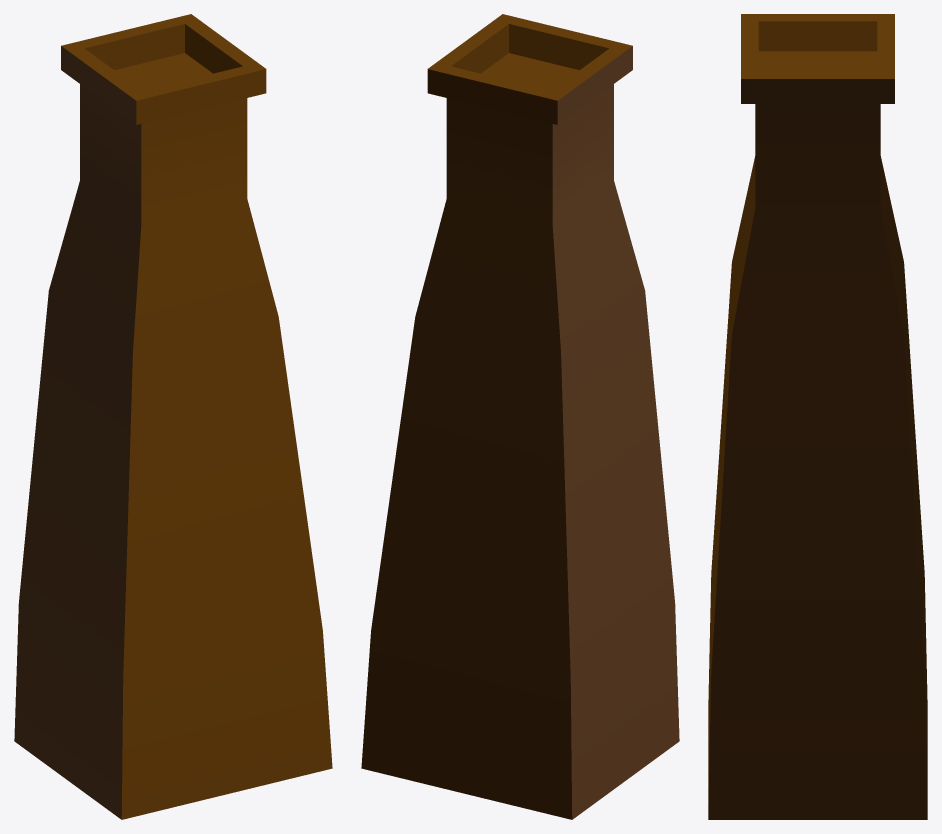
Rendered from Chimney.fbx.
The picture shows the model from 3 angles, left to right: view 1: azimuth 30°, elevation 25°; view 2: azimuth 150°, elevation 25°; view 3: azimuth 270°, elevation 25°; orthographic projection. The views are drawn at different scales.
Parts seen in each view (by area): view 1: pasted__Chimney; view 2: pasted__Chimney; view 3: pasted__Chimney.
Part boxes in pixels (bbox=[...]): pasted__Chimney: bbox=[14, 14, 332, 819]; pasted__Chimney: bbox=[361, 14, 679, 819]; pasted__Chimney: bbox=[708, 14, 927, 819].
Size of the model in its own units: 14.82 by 47.01 by 13.07.
